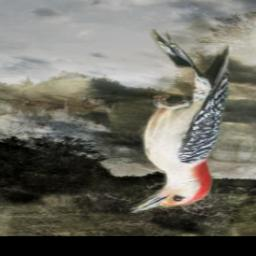Woodpecker: (126, 30, 230, 214)
